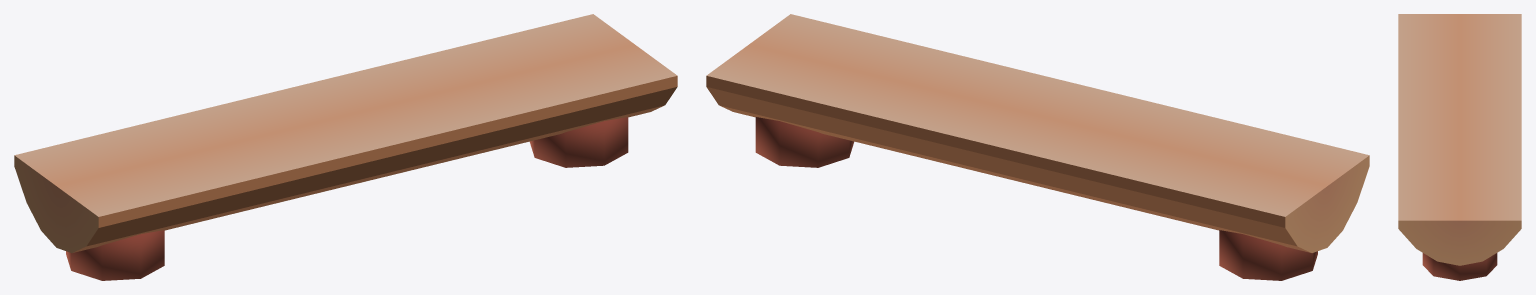
Rendered from LogBench1.fbx.
3 renders of one model, left to right at view 1: azimuth 30°, elevation 25°; view 2: azimuth 150°, elevation 25°; view 3: azimuth 270°, elevation 25°, orthographic. The views are drawn at different scales.
Parts seen in each view (by area): view 1: Cube.090; view 2: Cube.090; view 3: Cube.090.
Boxes of the visible parts, x1,y1,x2,y2 form: Cube.090: (14,14,677,280); Cube.090: (706,14,1369,280); Cube.090: (1398,14,1521,280).
Bounding box in the file's own units: 396 × 57.82 × 100.
